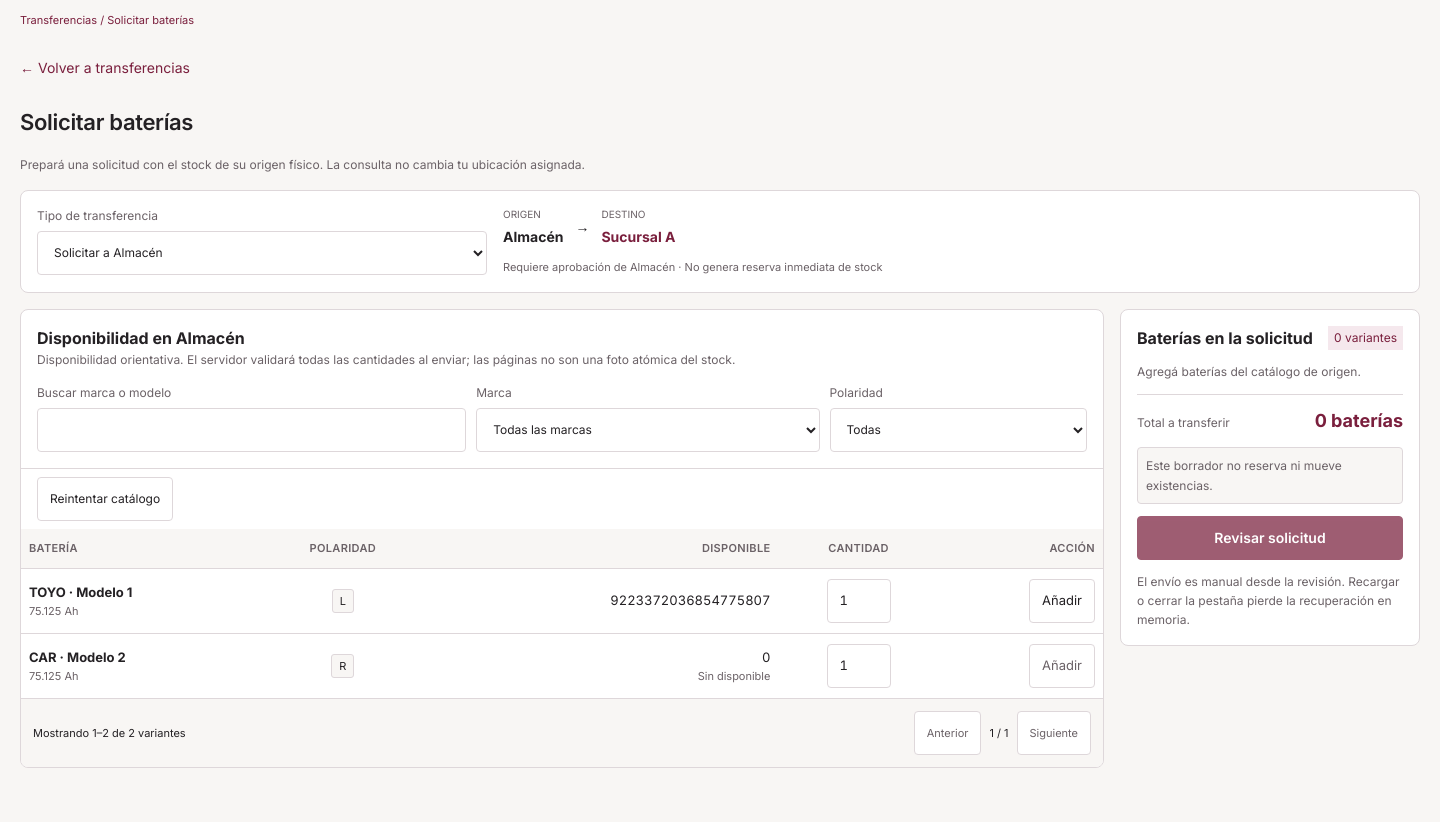
Test case: R04b2b workspace › rejects noncanonical or overflowing quantity -1 with sanitized guidance
Check: the button with aria-label "Añadir Modelo 1 L" is shown, box [1029,579,1095,623]
Replace the text in the field named "Cantidad Modelo 1 L" with "-1" at (859, 601), box [827,579,891,623]
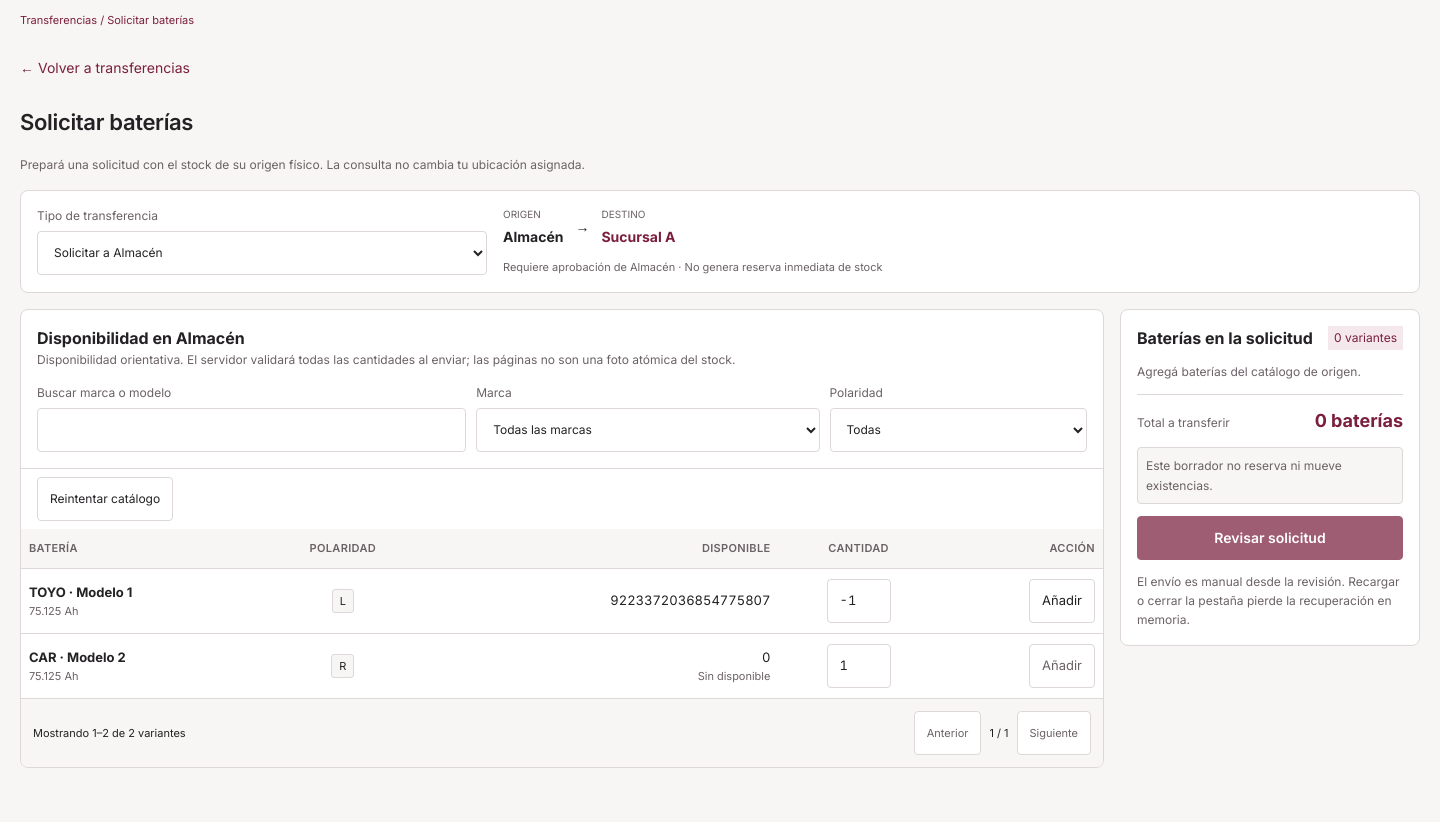
Click the button with aria-label "Añadir Modelo 1 L" at (1062, 601), box [1029,579,1095,623]
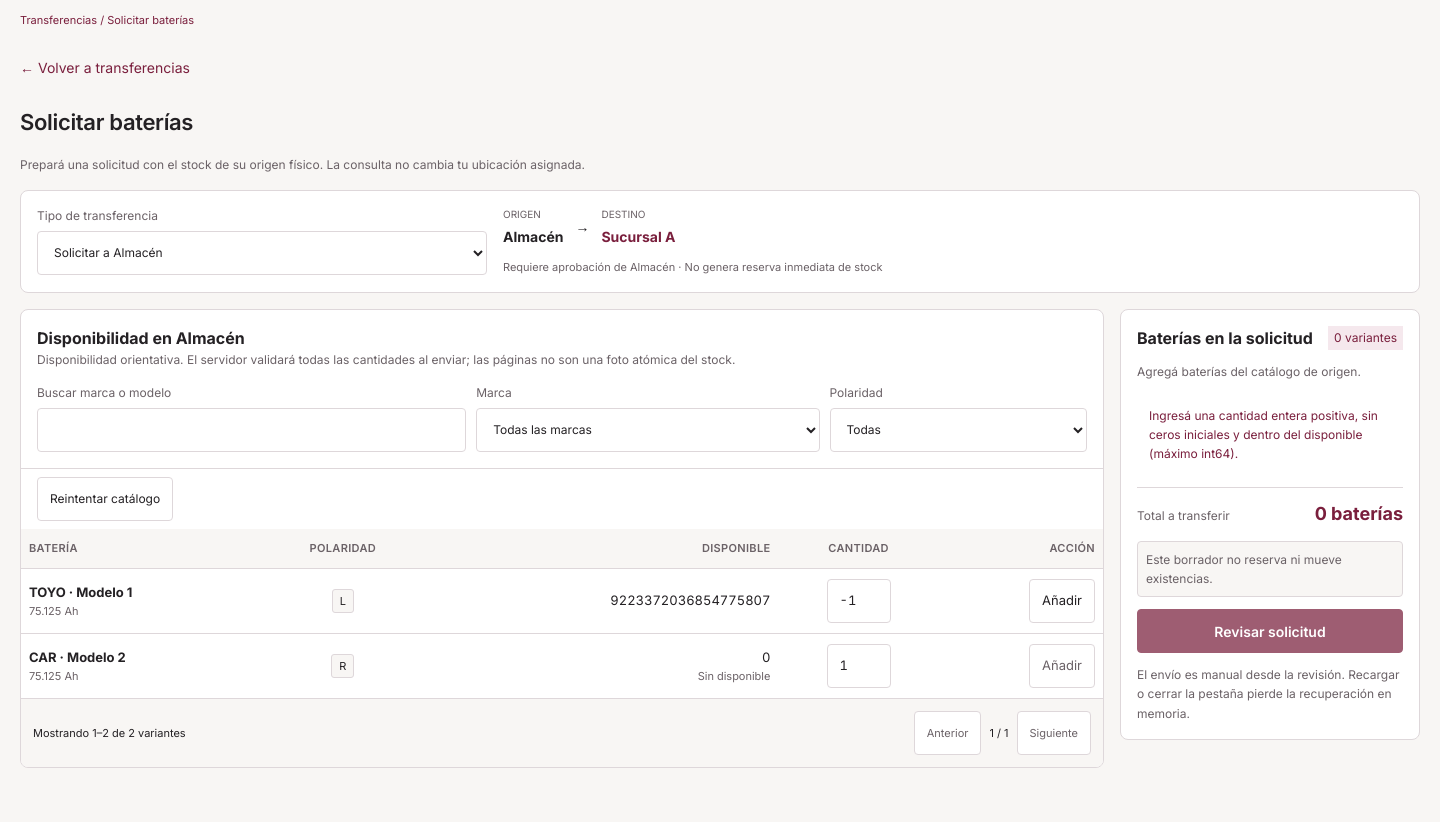
Check: the message shows "Ingresá una cantidad entera positiva", box [1149,408,1378,461]
